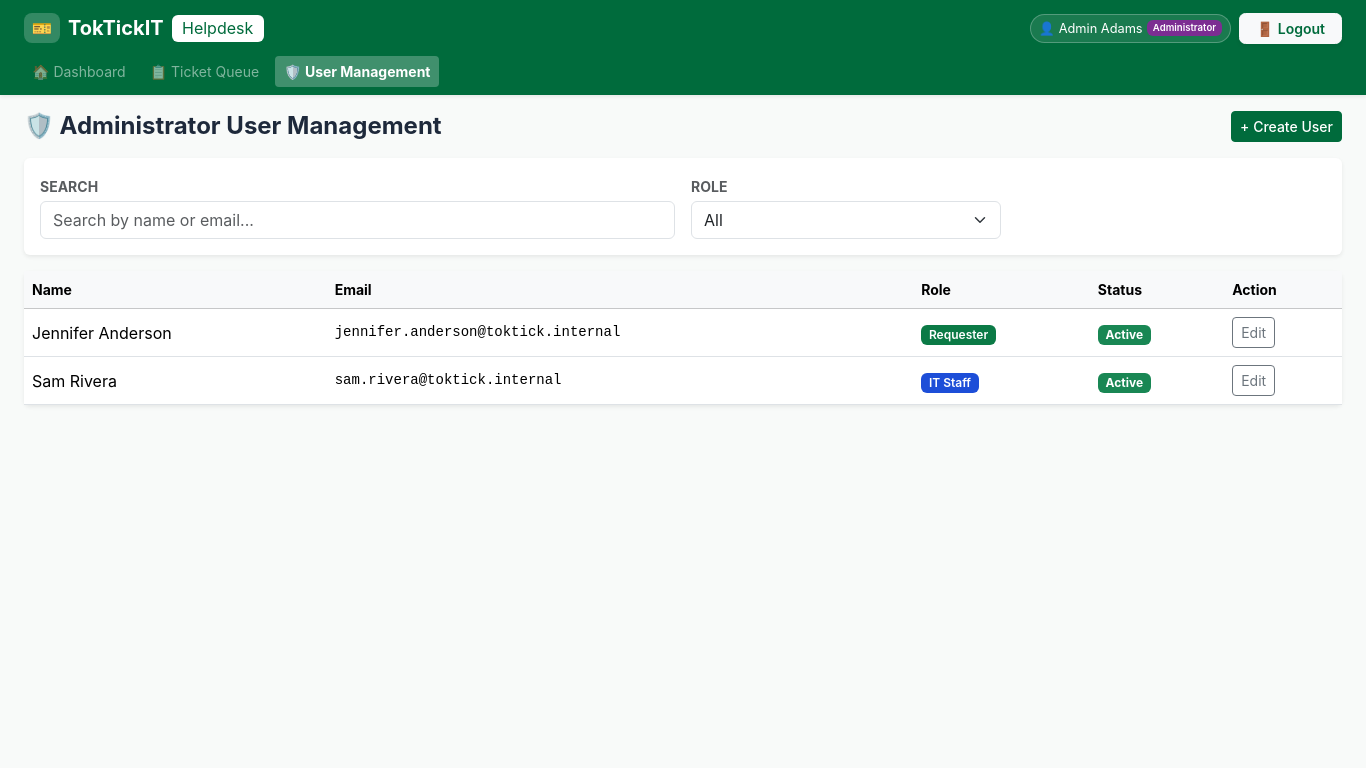
Test: Administrator User Management (UI-08, UI-09) › UI-08f: invalid-role error on create renders inline beneath the role field
The width and height of the screenshot is (1366, 768).
Check: the text "Jennifer Anderson" is shown, box [24, 309, 327, 357]
Click the button "+ Create User" at point(1287, 127), box [1231, 111, 1342, 142]
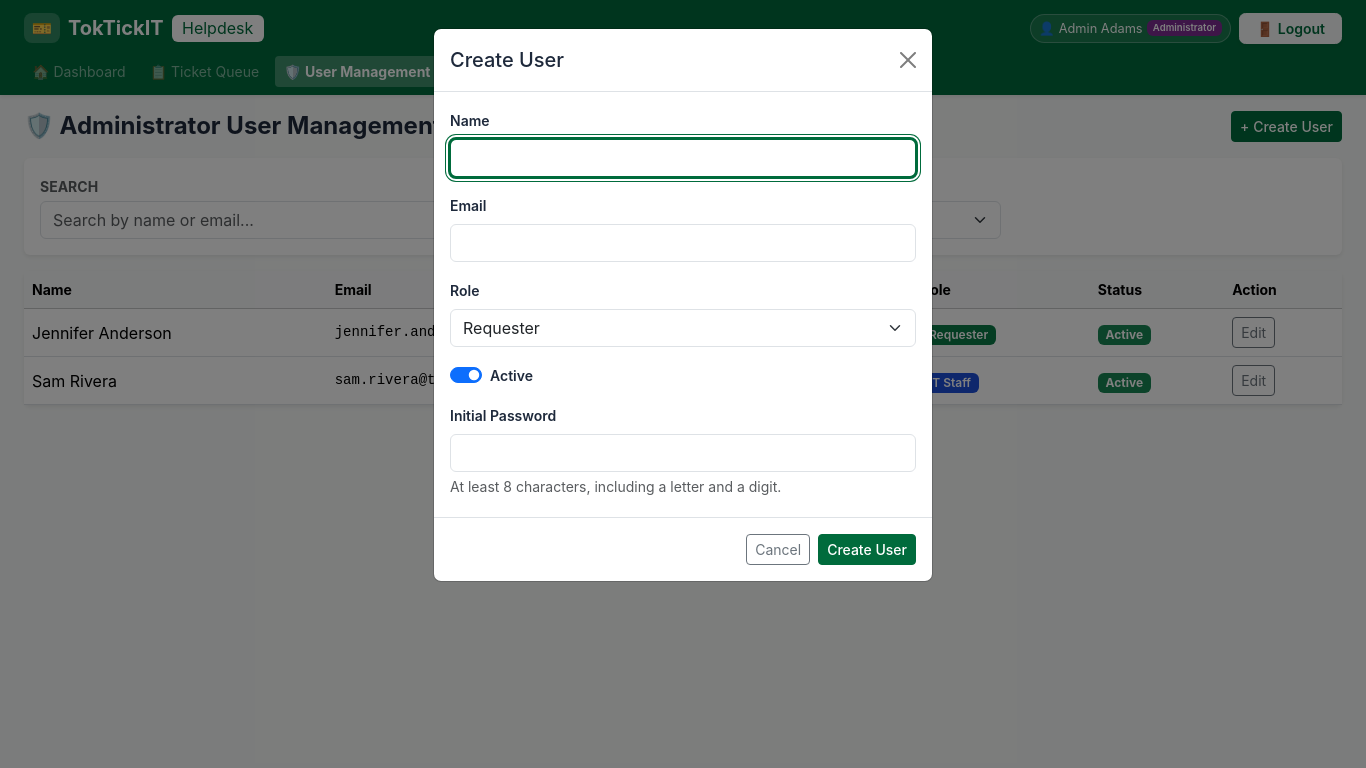
Type "Bad Role" into the field with id "create-name" at point(683, 158), box [450, 139, 916, 177]
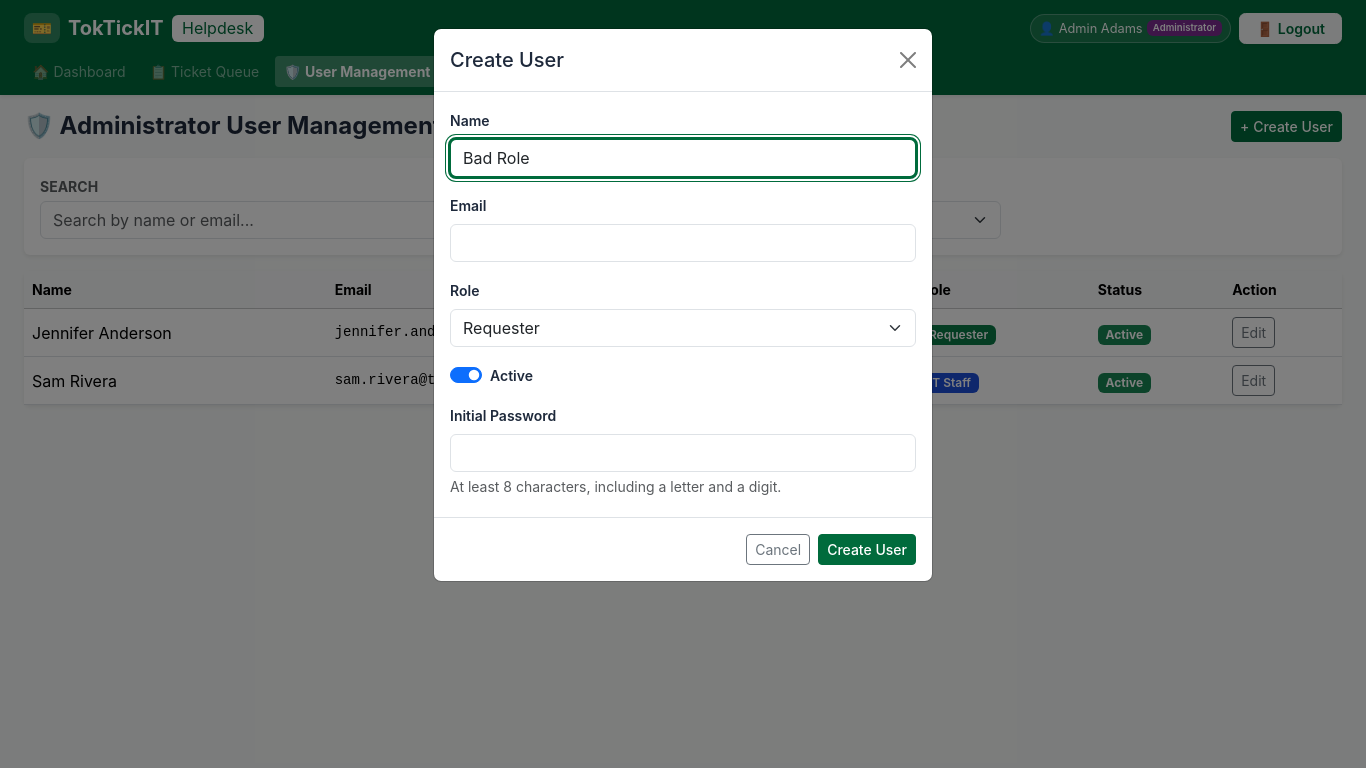
Type "badrole@toktick.internal" into the field with id "create-email" at point(683, 243), box [450, 224, 916, 262]
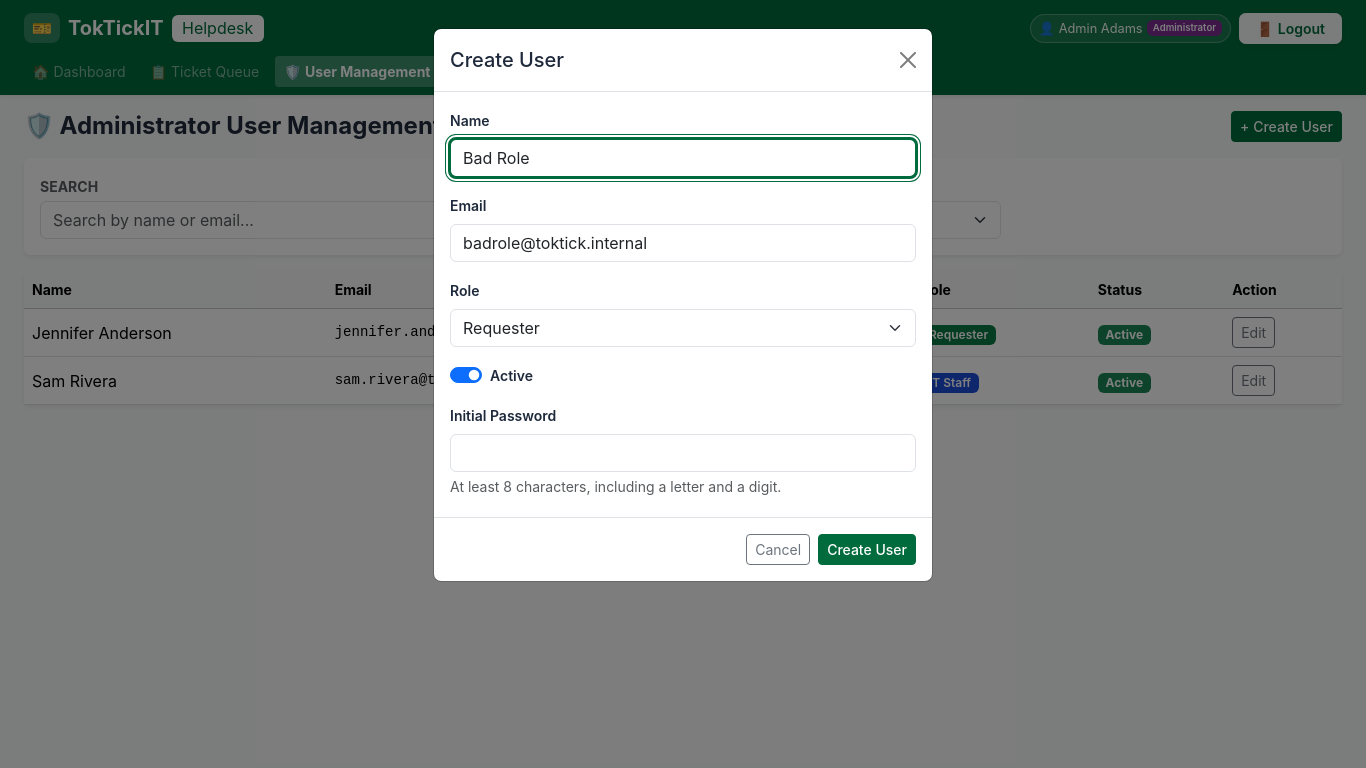
Type "ValidPass1" into the password field with id "create-password" at point(683, 453), box [450, 434, 916, 472]
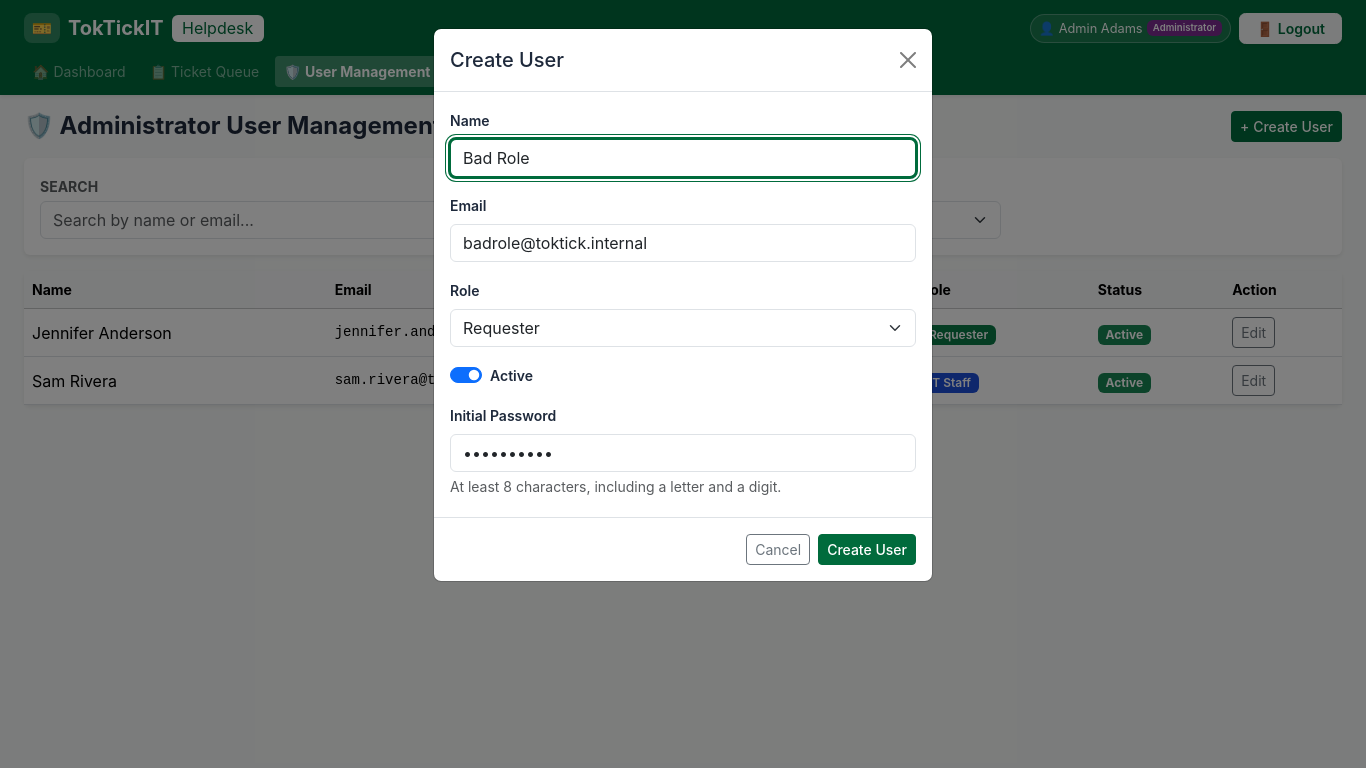
Click the button "Create User" at point(867, 550), box [818, 534, 916, 565]
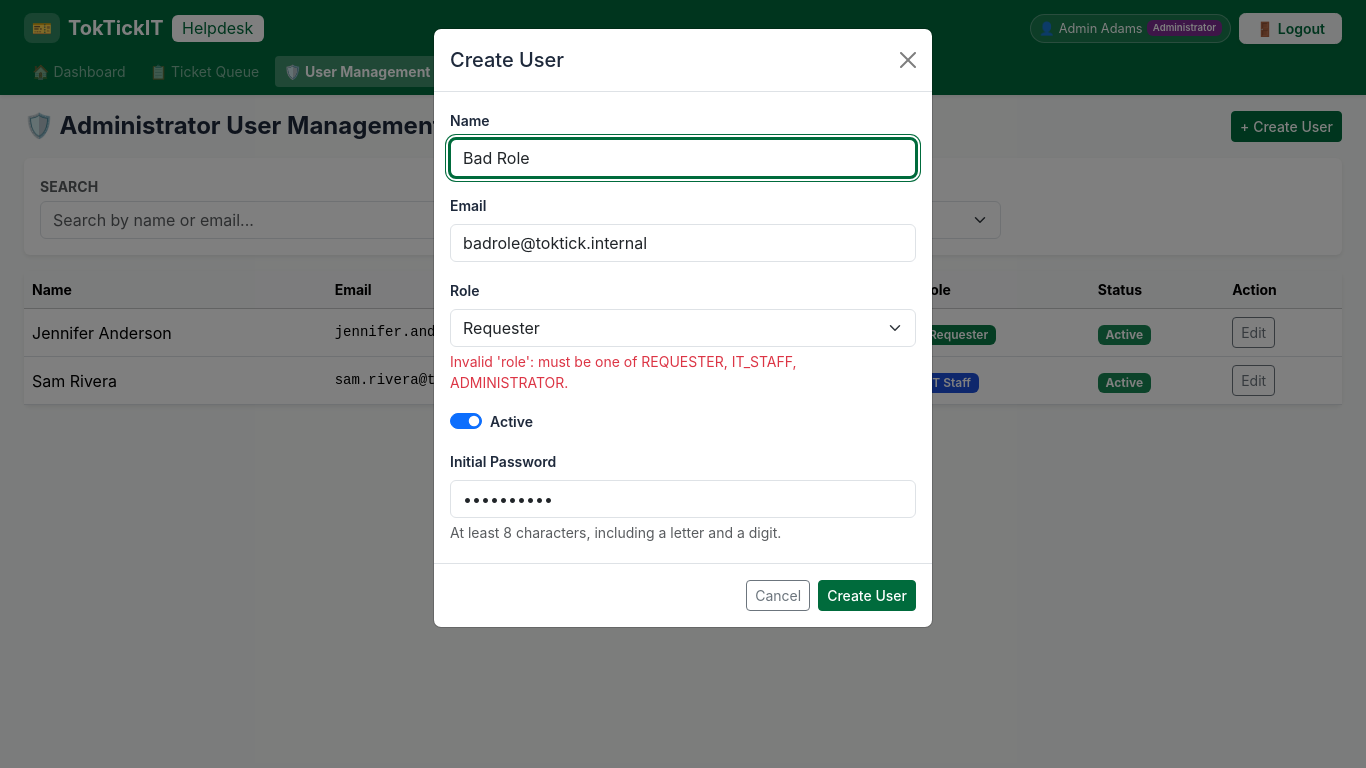
Check: the text "must be one of" is shown, box [450, 353, 796, 391]
